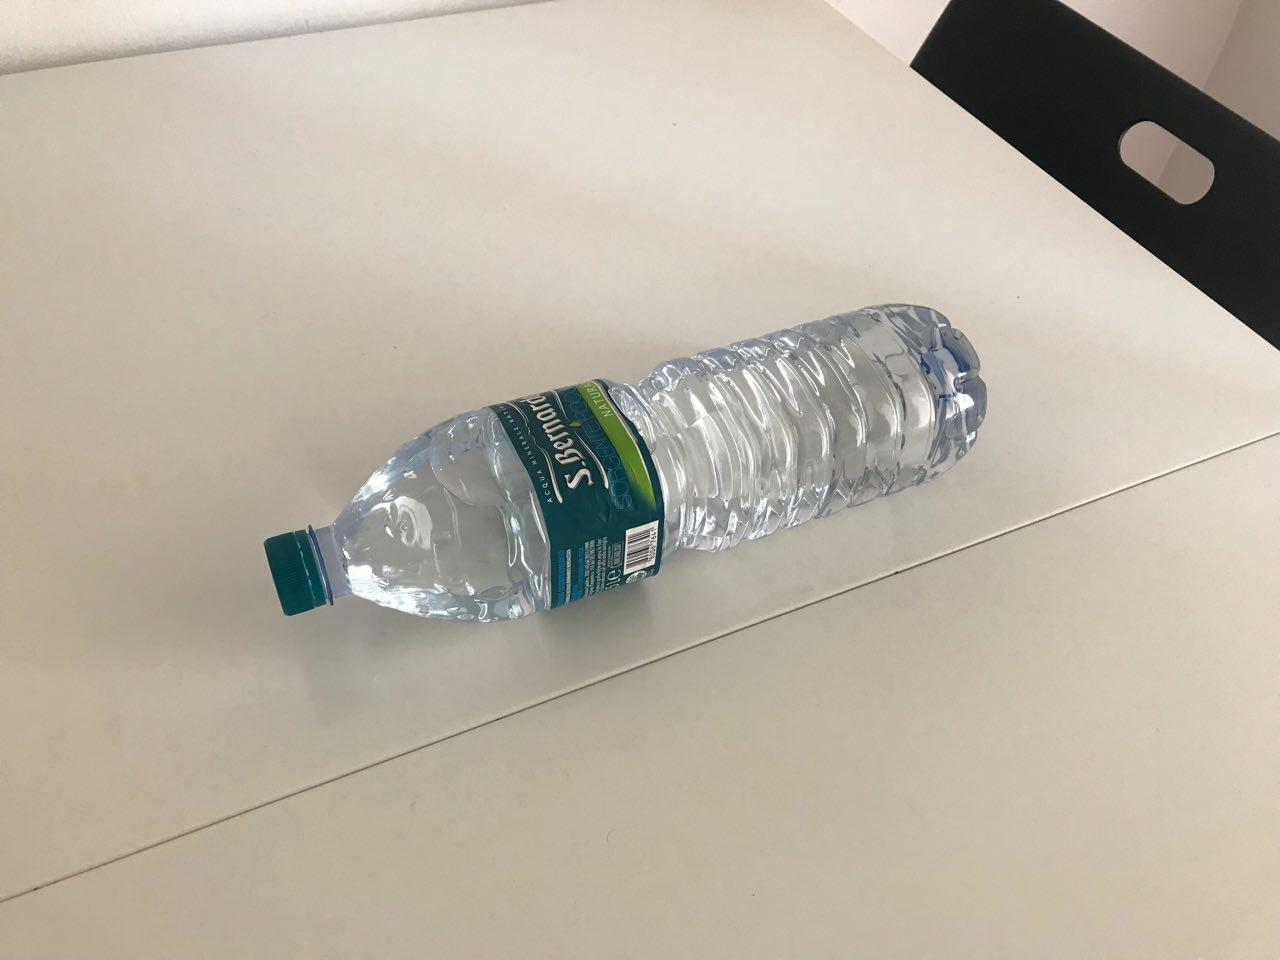san_bernardo: (262, 301, 988, 626)
